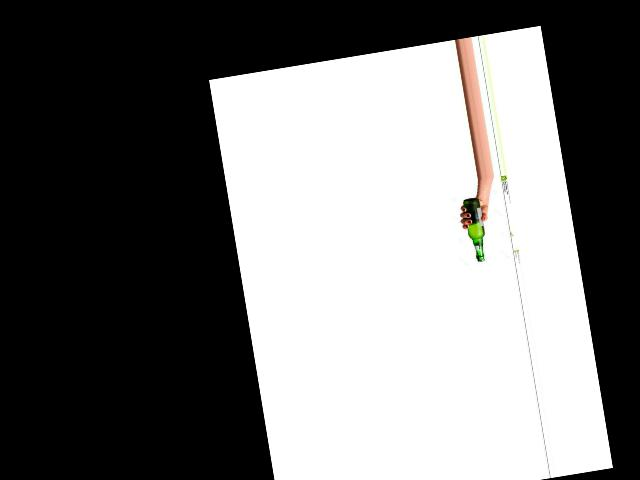beer: (463, 197, 490, 263)
